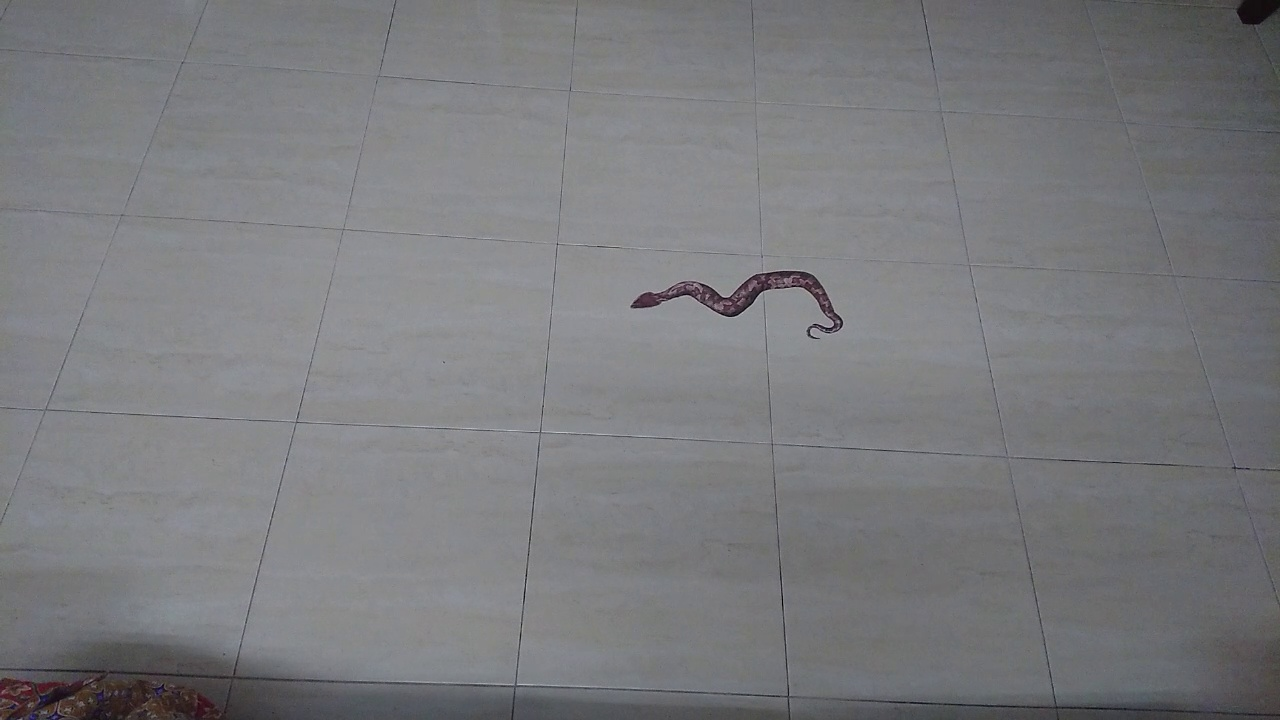snake: (605, 257, 856, 352)
